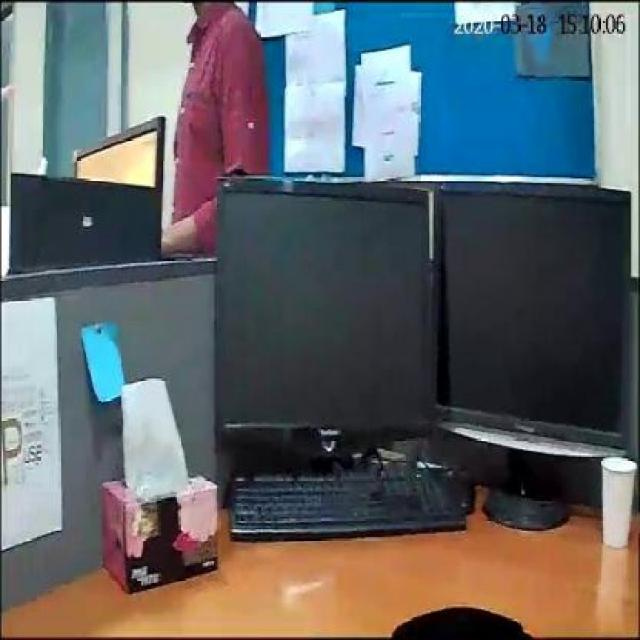spill: (389, 602, 526, 635)
